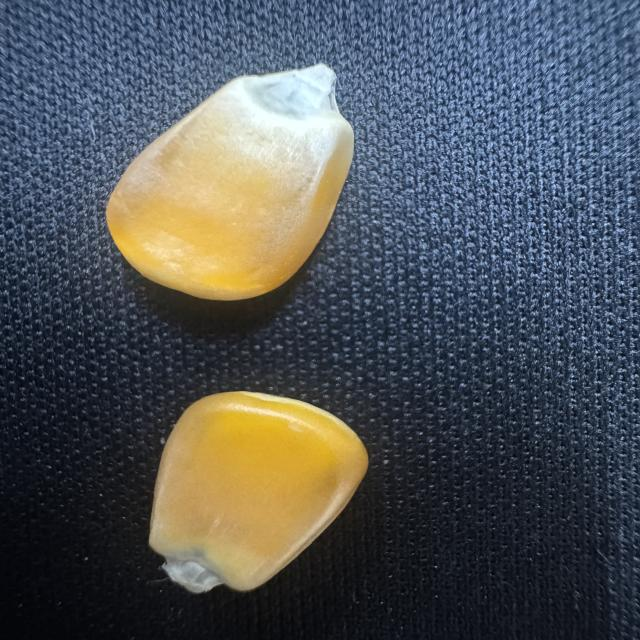Good-Seed: (94, 54, 358, 308), (140, 384, 375, 594)
